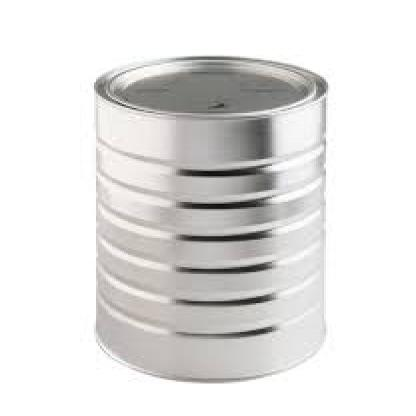METAL: (92, 55, 324, 380)
